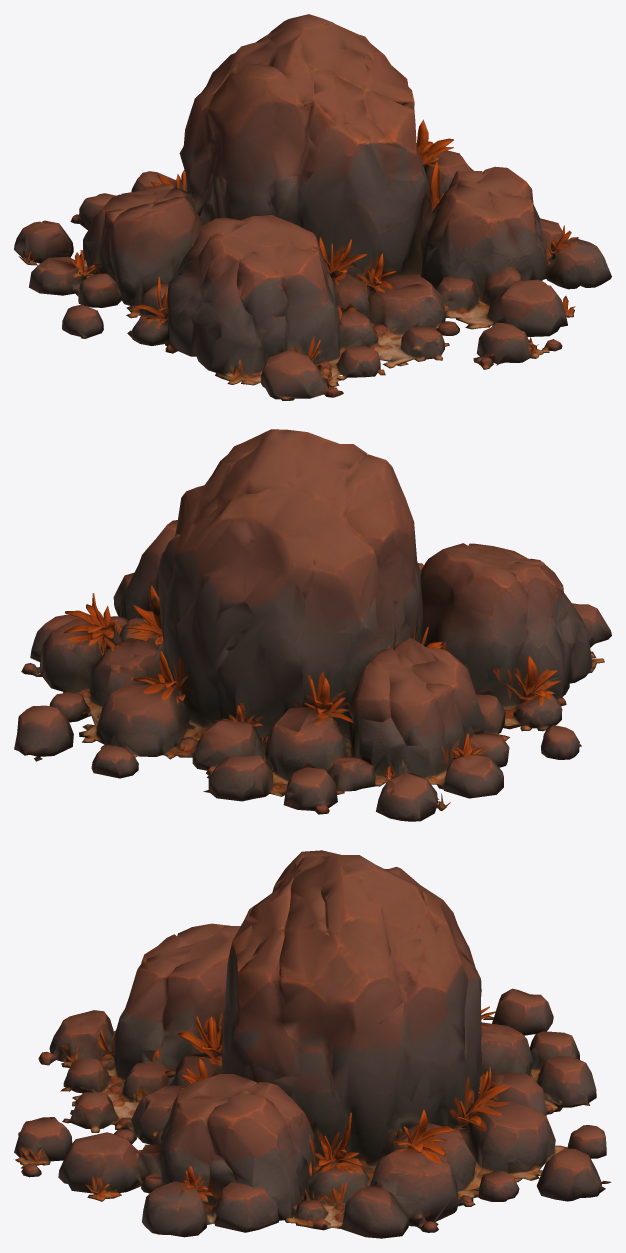
File: formacion_rocosa_volcanica.glb
3 renders of one model, top to bottom at view 1: azimuth 30°, elevation 25°; view 2: azimuth 150°, elevation 25°; view 3: azimuth 270°, elevation 25°, orthographic. The views are drawn at different scales.
Parts seen in each view (by area): view 1: formacion_rocosa_volcanica; view 2: formacion_rocosa_volcanica; view 3: formacion_rocosa_volcanica.
Part boxes in pixels (x1,y1,x2,y2): formacion_rocosa_volcanica: (14, 14, 611, 400); formacion_rocosa_volcanica: (14, 429, 611, 821); formacion_rocosa_volcanica: (14, 850, 611, 1238).
Size of what is drawn, in the model's own units: 7.15 by 3.5 by 7.18.
1 material, 1 textured.
